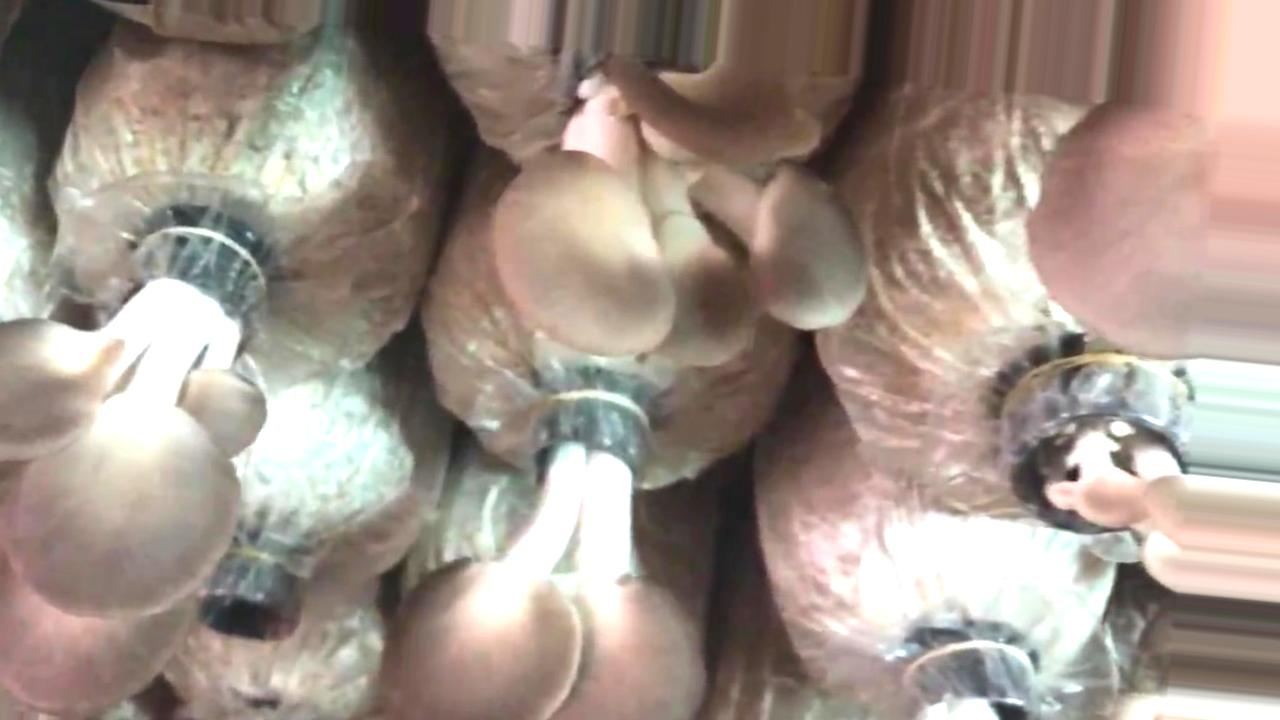nam: (495, 2, 870, 362), (1, 230, 264, 714), (385, 395, 705, 720), (1006, 357, 1280, 598), (1028, 96, 1280, 356)
